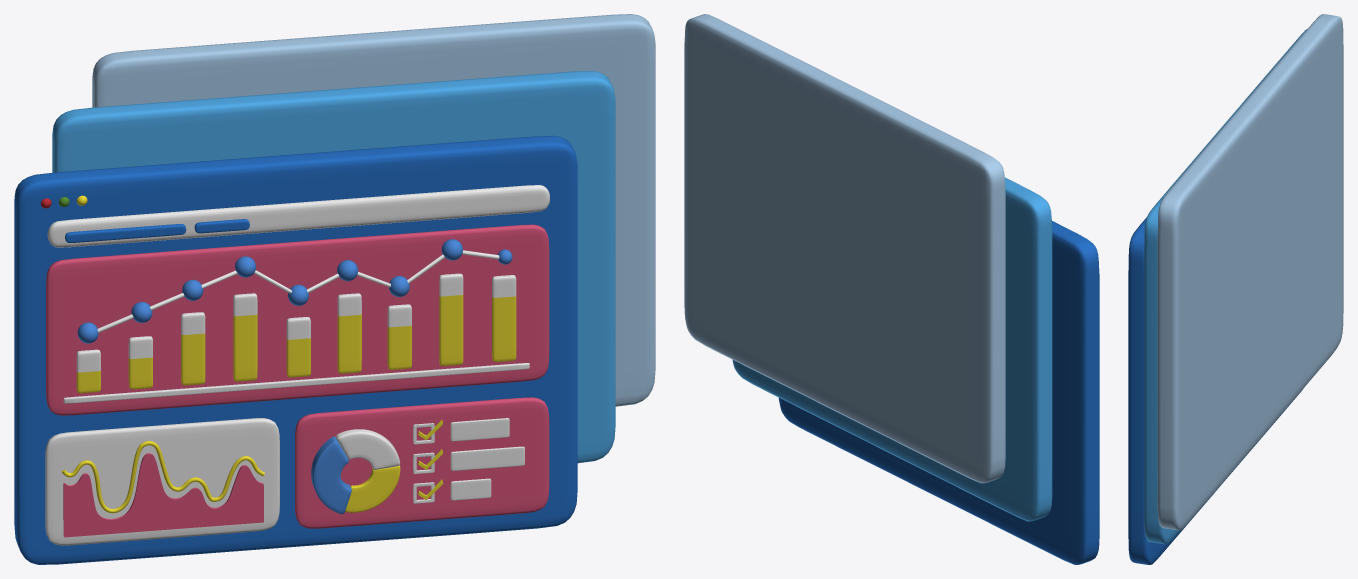
The model's file is pitch-deck-3d-animated-icon-1483038251778.glb.
The picture shows the model from 3 angles, left to right: view 1: azimuth 30°, elevation 25°; view 2: azimuth 150°, elevation 25°; view 3: azimuth 270°, elevation 25°; orthographic projection. The views are drawn at different scales.
Parts seen in each view (by area): view 1: Cube.027, Plane.027, Cube.050, Cube.028, Plane.028, Plane.024, Plane.026, Cube.026, Vert.003, Cylinder.005, Plane.006, Plane.025 (+3 smaller); view 2: Cube.028, Cube.027, Cube.050; view 3: Cube.028, Cube.027, Cube.050.
Part boxes in pixels (box(x1,y1,x2,y2)): Cube.027: box(14, 135, 577, 564); Plane.027: box(46, 224, 549, 415); Cube.050: box(52, 70, 615, 463); Cube.028: box(92, 14, 655, 406); Plane.028: box(295, 397, 549, 528); Plane.024: box(45, 418, 279, 545); Plane.026: box(76, 273, 516, 393); Cube.026: box(47, 185, 549, 247); Vert.003: box(63, 453, 263, 537); Cylinder.005: box(311, 429, 400, 514); Plane.006: box(450, 418, 524, 500); Plane.025: box(63, 363, 529, 403); Cube.028: box(684, 14, 1005, 483); Cube.027: box(778, 221, 1099, 564); Cube.050: box(732, 177, 1052, 521); Cube.028: box(1157, 14, 1343, 530); Cube.027: box(1128, 217, 1302, 564); Cube.050: box(1144, 29, 1306, 544).
Size of the model in its own units: 8.77 by 6.99 by 3.34.
